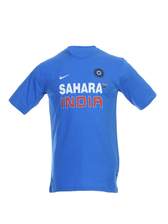clothoes: (9, 45, 158, 194)
